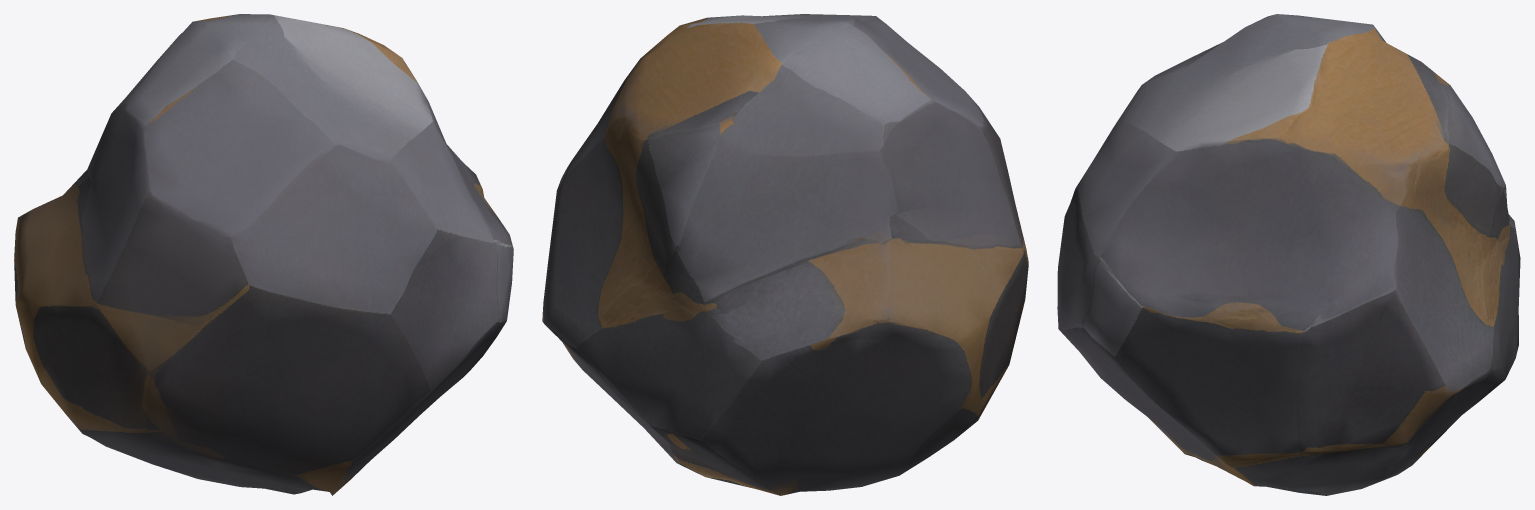
File: OreChunkIron.glb
3 views of the same model, side by side, from view 1: azimuth 30°, elevation 25°; view 2: azimuth 150°, elevation 25°; view 3: azimuth 270°, elevation 25° (orthographic). The views are drawn at different scales.
Visible parts, largest first — view 1: texture_mapping; view 2: texture_mapping; view 3: texture_mapping.
Boxes of the visible parts, x1,y1,x2,y2 form: texture_mapping: (14, 14, 513, 495); texture_mapping: (542, 14, 1028, 495); texture_mapping: (1057, 14, 1520, 495).
Bounding box in the file's own units: 0.992 × 0.9826 × 0.9447.
1 material, 1 textured.
